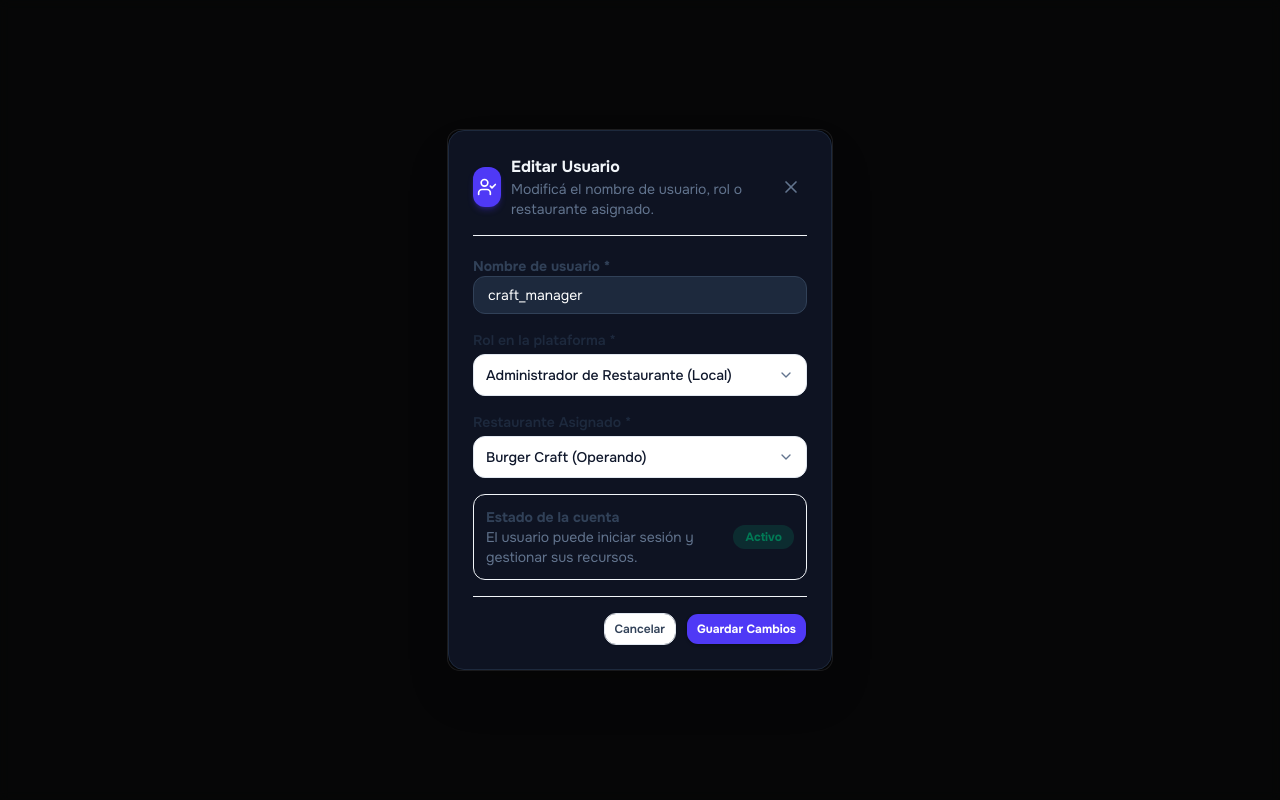
Test: EditUserModal (TDD) › distinguishes generic 400 validation errors like required username from restaurant role validation (Defect 5)
What coordinates should you click on to do the following:
click the button "Guardar Cambios"
I would click on:
 (746, 629)
Its box is [686,613,807,645].
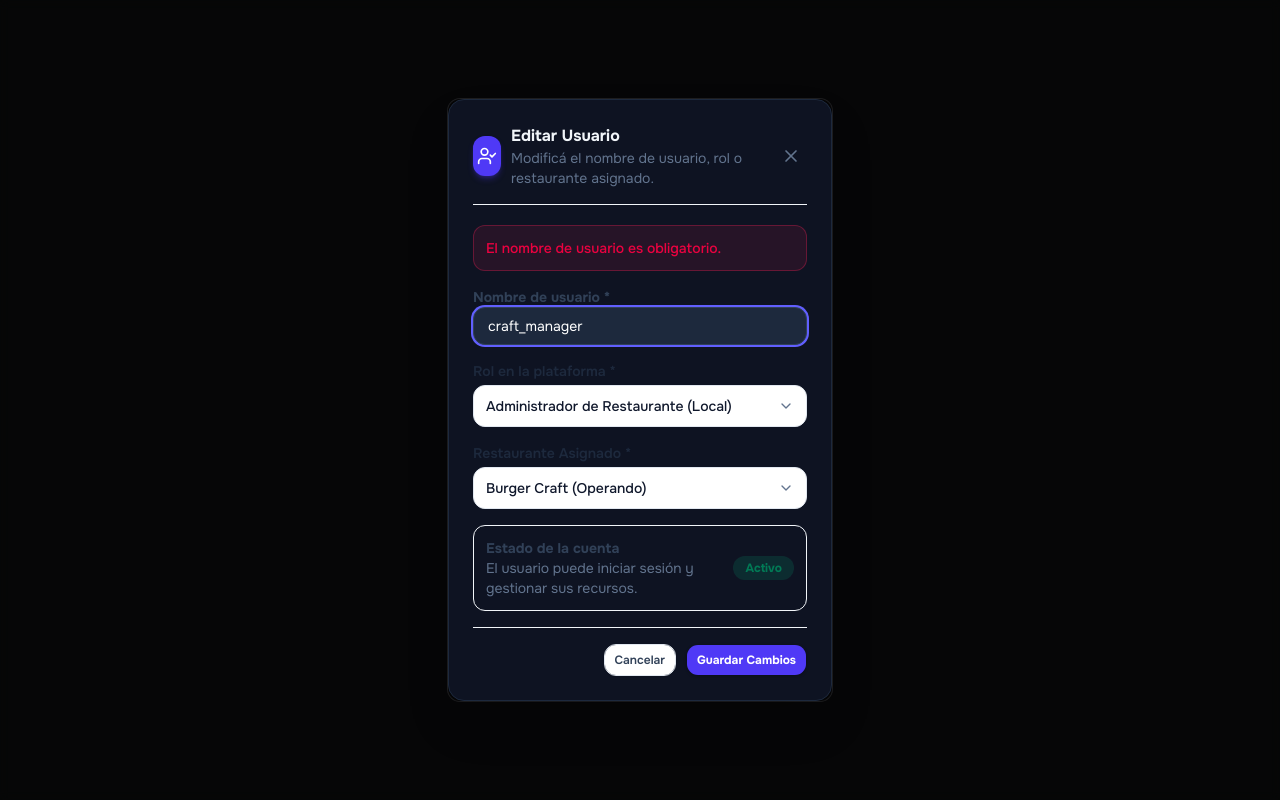
Now the text "El nombre de usuario es obligatorio." is shown, box [473,225,807,271]
